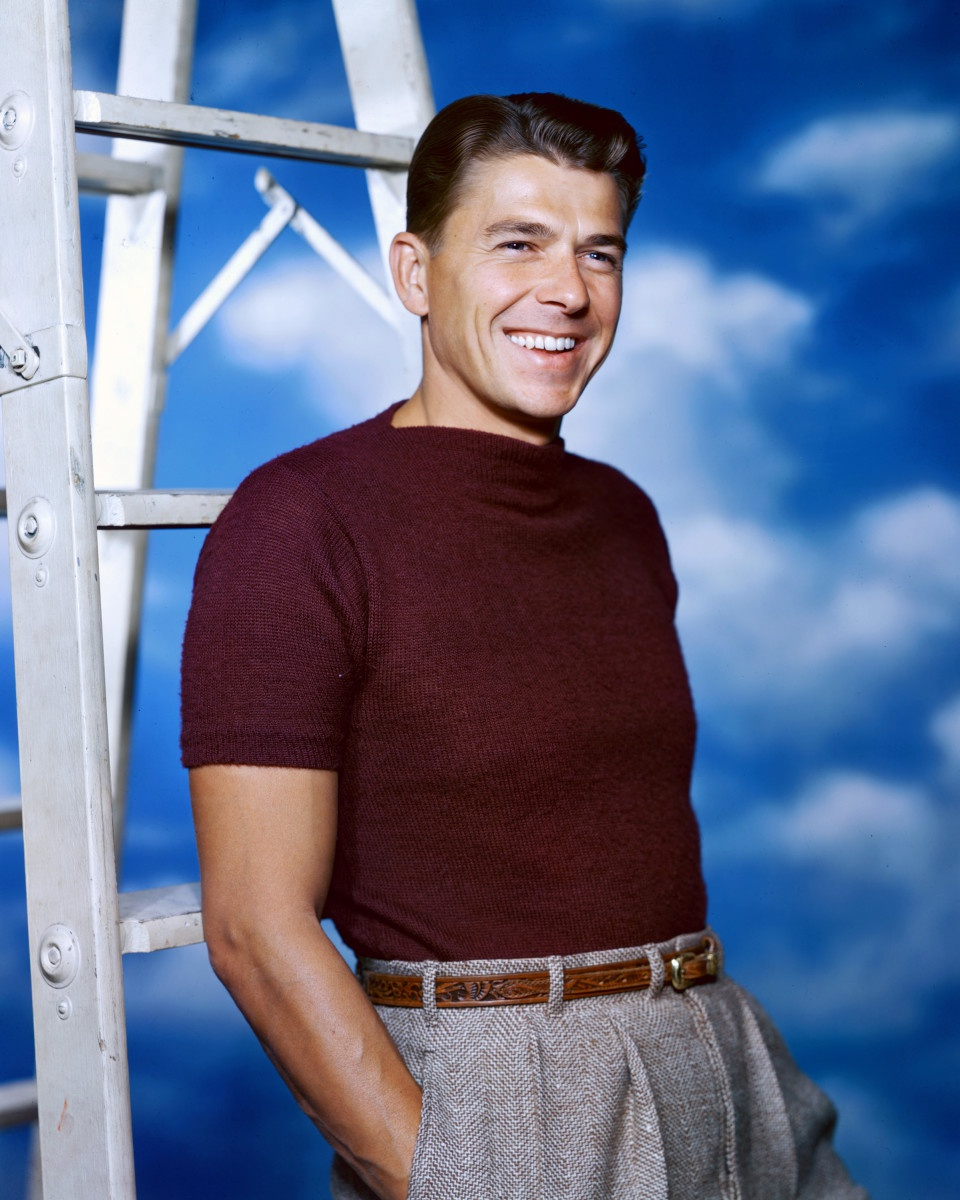bad: (439, 167, 662, 390)
